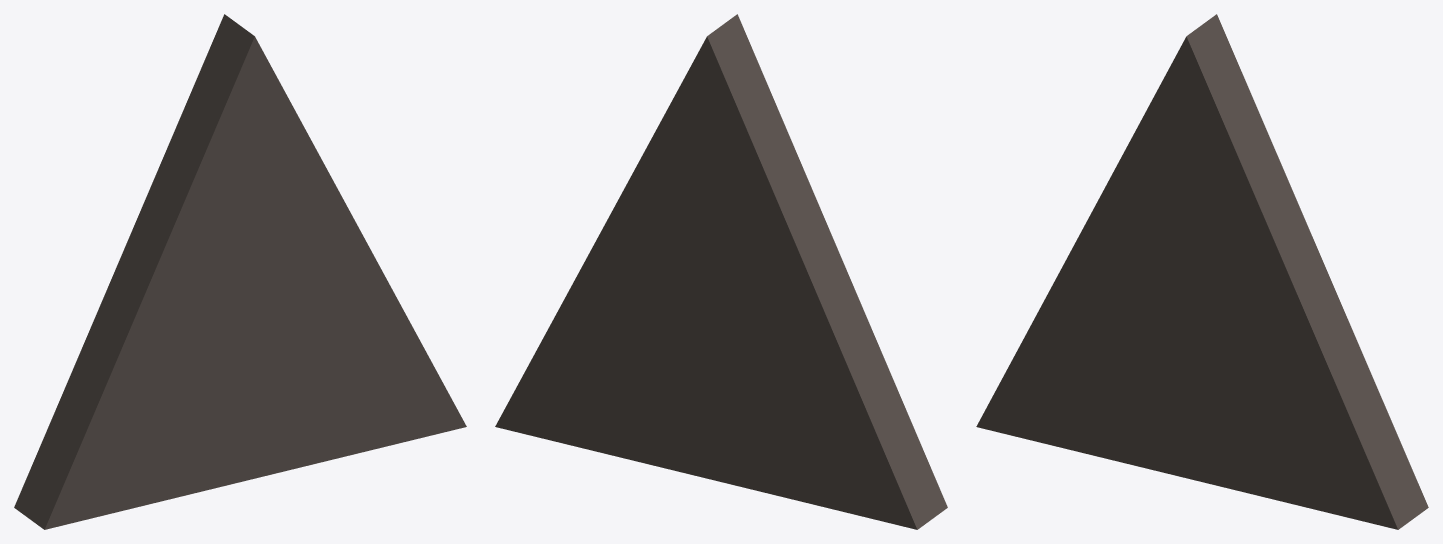
File: MCastle_SquareWall_Base_TriFront.FBX
The picture shows the model from 3 angles, left to right: view 1: azimuth 30°, elevation 25°; view 2: azimuth 150°, elevation 25°; view 3: azimuth 330°, elevation 25°; orthographic projection.
Visible parts, largest first — view 1: MCastle_SquareWalls_Base_TriFront; view 2: MCastle_SquareWalls_Base_TriFront; view 3: MCastle_SquareWalls_Base_TriFront.
Part boxes in pixels (left/top/right/bottom): MCastle_SquareWalls_Base_TriFront: left=14, top=14, right=466, bottom=529; MCastle_SquareWalls_Base_TriFront: left=495, top=14, right=947, bottom=529; MCastle_SquareWalls_Base_TriFront: left=976, top=14, right=1428, bottom=529.
Bounding box in the file's own units: 4 × 4 × 0.5.
